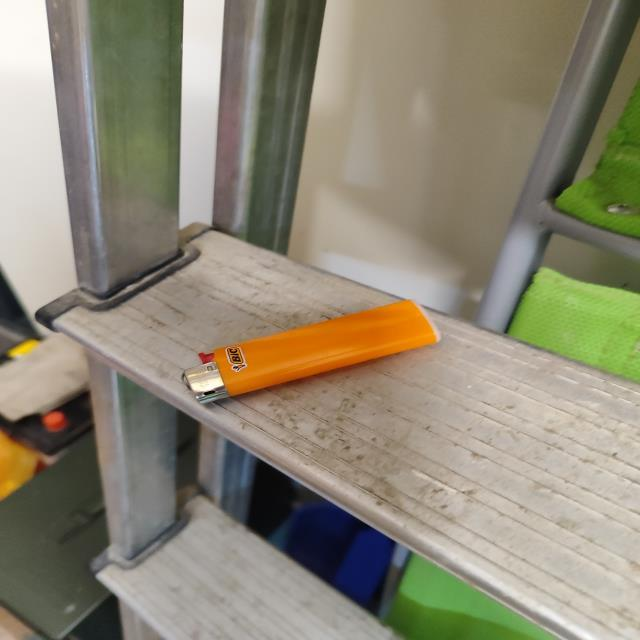lighter: (183, 300, 438, 403)
